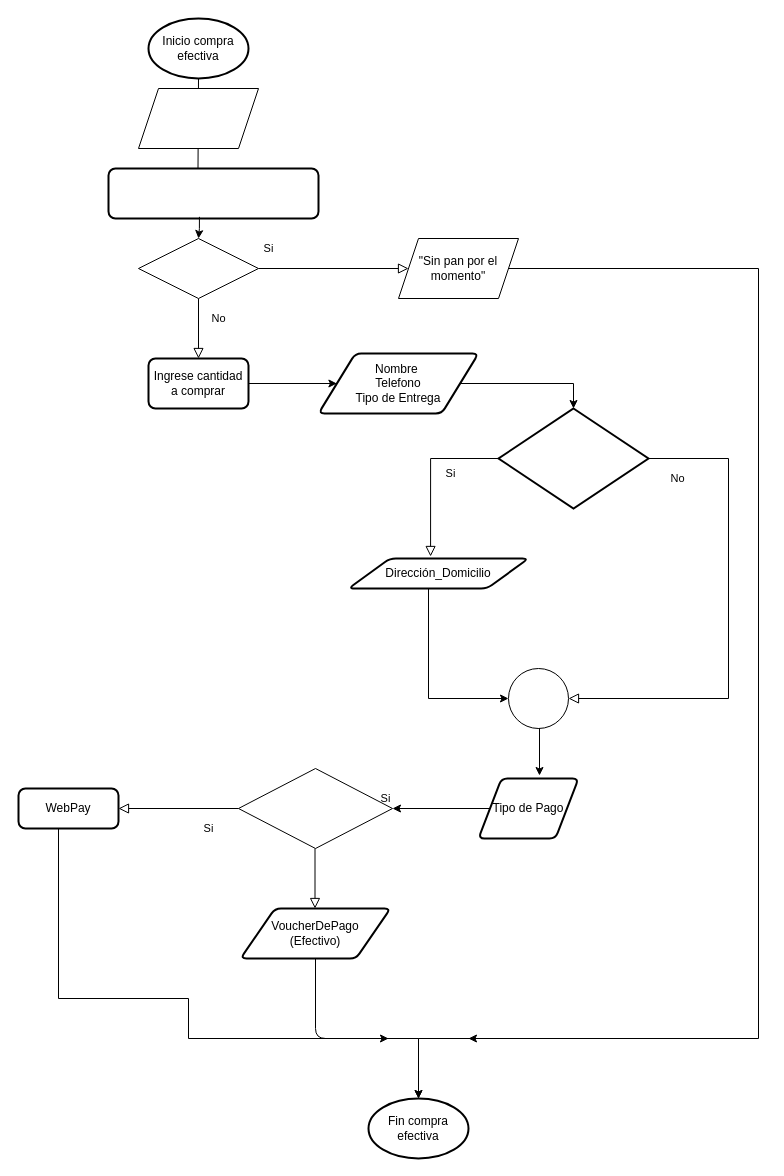
The diagram is 784 pixels wide and 1176 high, and some of its shapes have lost their labels. Here are the shapes that lost their labels. From the top down, the centre of each, then its label:
point (198, 118): Tipo de Producto
point (213, 193): Stock=BuscarStock(Tipodeprdocto);
point (198, 268): Stock <=0
point (573, 458): Tipo de entrega=="Despacho a Domicilio"
point (315, 808): Tipo de pago == "Transferencia/Débito"
